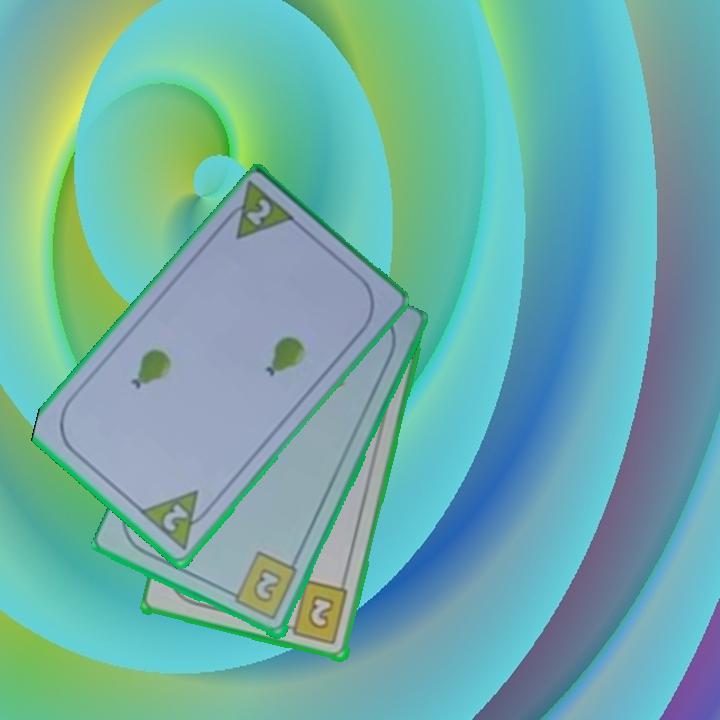2b: (224, 549, 301, 624), (280, 578, 351, 648)
2p: (136, 487, 217, 554), (241, 195, 275, 229)
